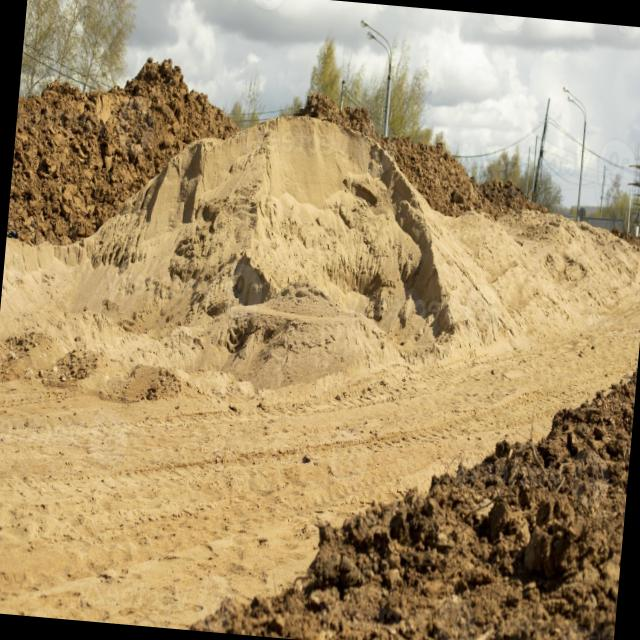red-sand: (189, 370, 637, 640), (6, 58, 238, 244), (379, 137, 542, 216), (295, 93, 378, 141)
white-sand: (0, 117, 640, 628)
